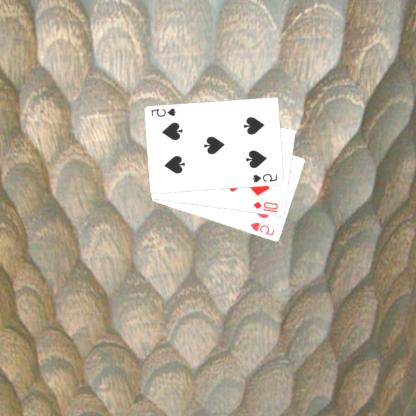10D: (253, 199, 281, 214)
5H: (250, 220, 278, 237)
5S: (251, 171, 280, 184), (151, 106, 179, 118)
